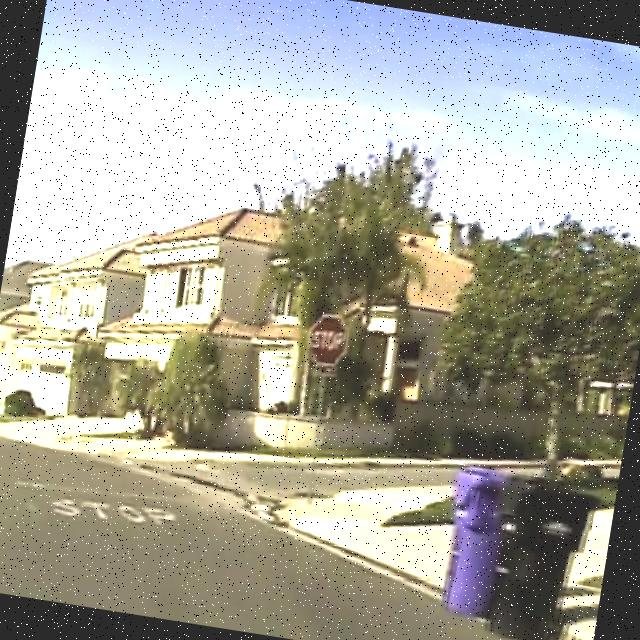Stop: (304, 310, 352, 368)
